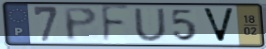5: (171, 8, 199, 42)
7: (32, 5, 61, 44)
F: (100, 4, 132, 45)
P: (62, 6, 100, 43)
U: (132, 7, 170, 43)
V: (200, 6, 237, 44)
